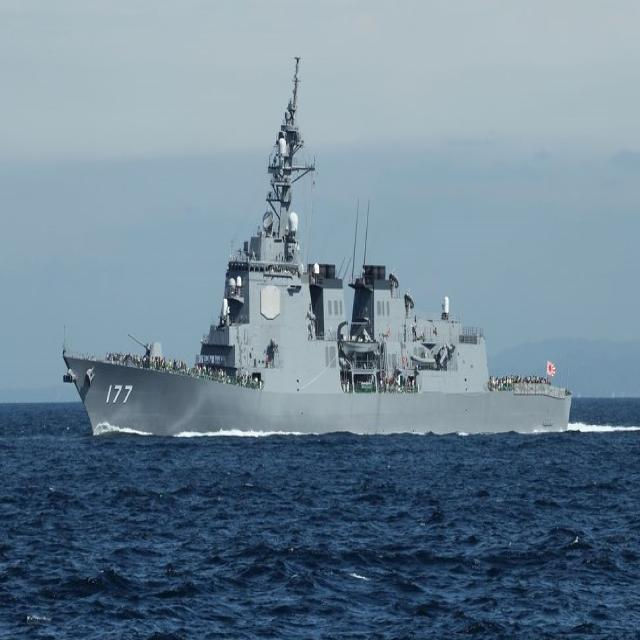navalvessels: (56, 65, 582, 458)
